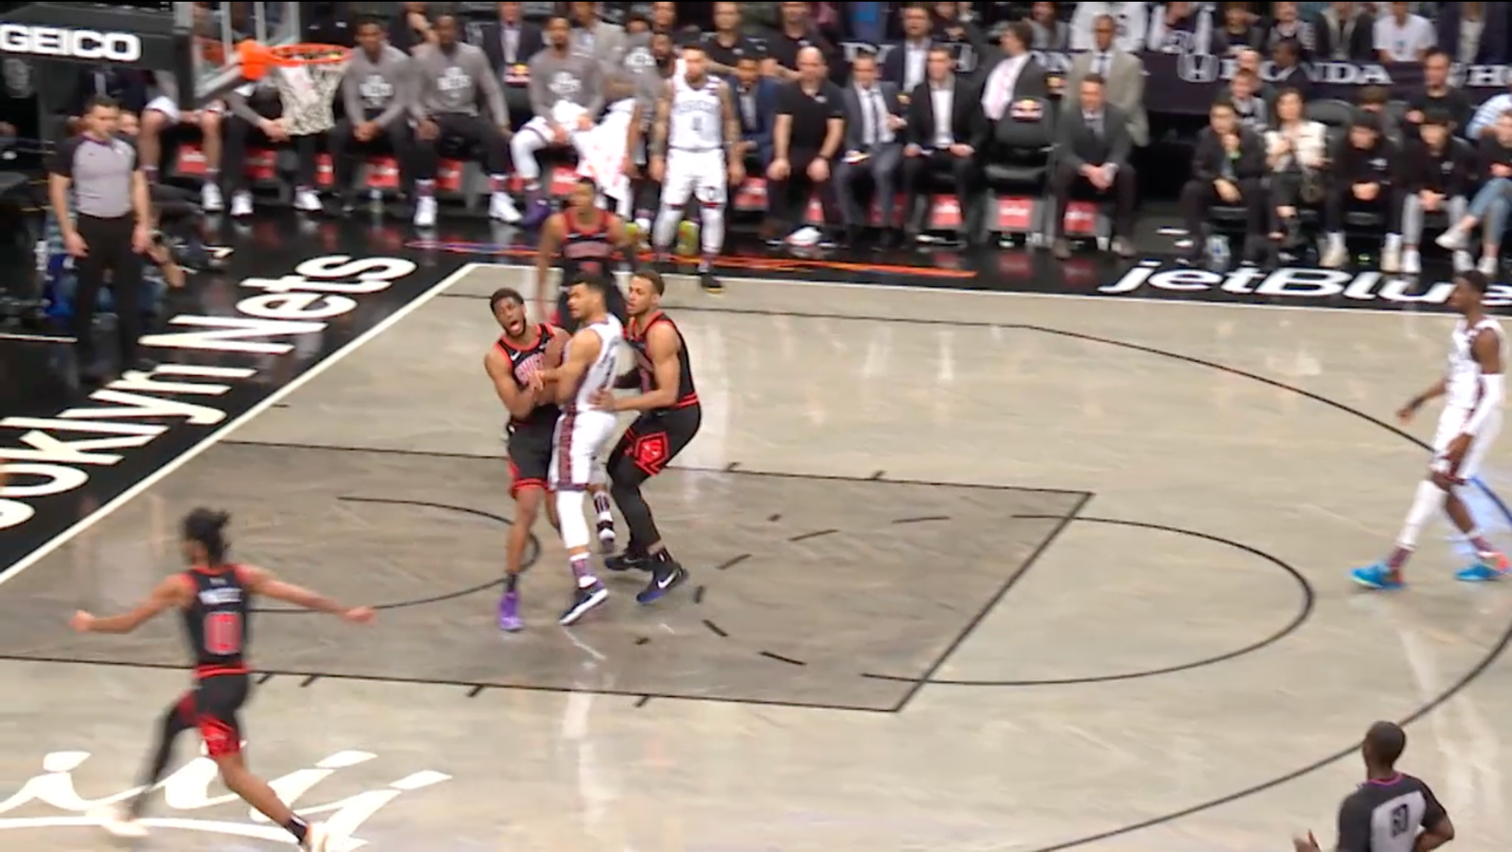Foul: (479, 279, 617, 633)
